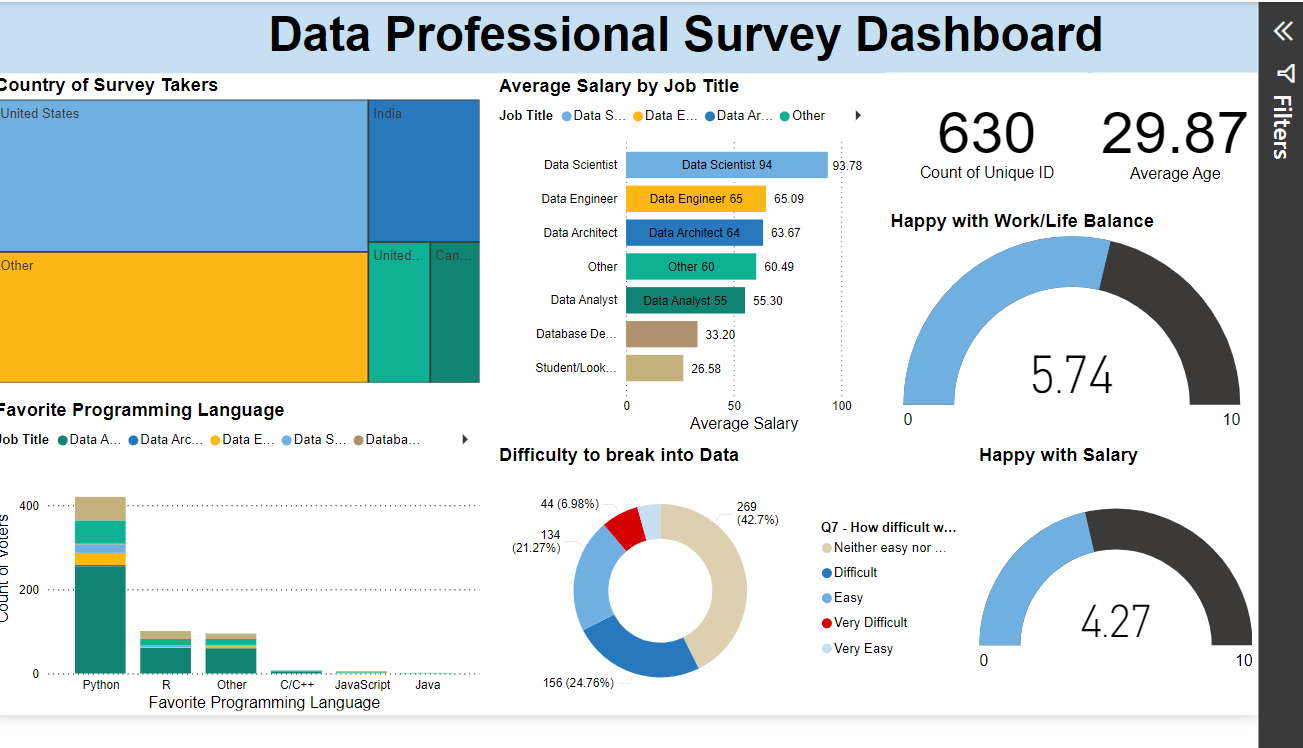

This screenshot's page, from the dashboard's own definition file:
{"tool":"powerbi","page":{"name":"Page 1","canvas":[1280,720],"ordinal":0},"visuals":[{"type":"textbox","box":[9.4,0,1270.6,71.7],"z":0},{"type":"card","fields":{"Values":["Count(Data Professional Survey.Unique ID)"]},"box":[903.3,71.1,204.3,127.1],"z":1000},{"type":"card","fields":{"Values":["Avg(Data Professional Survey.Q10 - Current Age)"]},"box":[1113.6,71.1,166.4,128.6],"z":2000},{"type":"barChart","title":"Average Salary by Job Title","fields":{"Category":["Data Professional Survey.Q1 - Which Title Best Fits your Current Role?.1"],"Y":["Avg(Data Professional Survey.Average Salary)"],"Series":["Data Professional Survey.Q1 - Which Title Best Fits your Current Role?.1"]},"box":[508.4,74.1,387.3,364.6],"z":3000},{"type":"columnChart","title":"Favorite Programming Language","fields":{"Category":["Data Professional Survey.Q5 - Favorite Programming Language.1"],"Y":["CountNonNull(Data Professional Survey.Unique ID)"],"Series":["Data Professional Survey.Q1 - Which Title Best Fits your Current Role?.1"]},"box":[0,400.9,499.3,319.2],"z":4000},{"type":"treemap","title":"Country of Survey Takers","fields":{"Group":["Data Professional Survey.Q11 - Which Country do you live in?.1"],"Values":["CountNonNull(Data Professional Survey.Q11 - Which Country do you live in?.1)"]},"box":[0,72.6,499.3,316.2],"z":5000},{"type":"gauge","title":"Happy with Work/Life Balance","fields":{"Y":["Avg(Data Professional Survey.Q6 - How Happy are you in your Current Position with the following? (Work/Life Balance))"],"MinValue":["Min(Data Professional Survey.Q6 - How Happy are you in your Current Position with the following? (Work/Life Balance))1"],"MaxValue":["Max(Data Professional Survey.Q6 - How Happy are you in your Current Position with the following? (Work/Life Balance))2"]},"box":[904,210.5,375.5,228.6],"z":6000},{"type":"gauge","title":"Happy with Salary","fields":{"Y":["Avg(Data Professional Survey.Q6 - How Happy are you in your Current Position with the following? (Salary))"],"MinValue":["Min(Data Professional Survey.Q6 - How Happy are you in your Current Position with the following? (Salary))"],"MaxValue":["Max(Data Professional Survey.Q6 - How Happy are you in your Current Position with the following? (Salary))"]},"box":[994,446.3,286,273.9],"z":7000},{"type":"donutChart","title":"Difficulty to break into Data ","fields":{"Category":["Data Professional Survey.Q7 - How difficult was it for you to break into Data?"],"Y":["CountNonNull(Data Professional Survey.Q7 - How difficult was it for you to break into Data?)"]},"box":[508.4,446.3,475.1,273.9],"z":8000}]}

Visuals, with their boxes in screenshot pixels (x1, y1, x2, y2):
textbox: [0,0,1254,24]
card - Count(Data Professional Survey.Unique ID): [876,24,1081,151]
card - Avg(Data Professional Survey.Q10 - Current Age): [1087,24,1254,153]
"Average Salary by Job Title" barChart: [480,27,869,393]
"Favorite Programming Language" columnChart: [0,355,471,675]
"Country of Survey Takers" treemap: [0,25,471,343]
"Happy with Work/Life Balance" gauge: [877,164,1254,393]
"Happy with Salary" gauge: [967,401,1254,675]
"Difficulty to break into Data " donutChart: [480,401,957,675]
